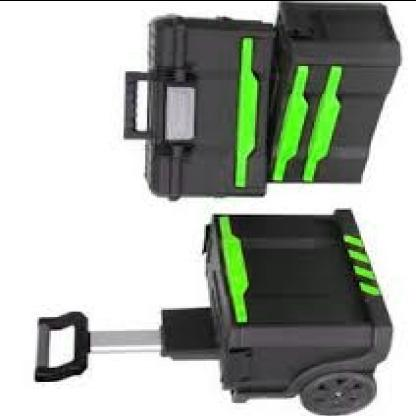Tool Box: (29, 206, 396, 416), (116, 9, 280, 205), (252, 0, 406, 186)
